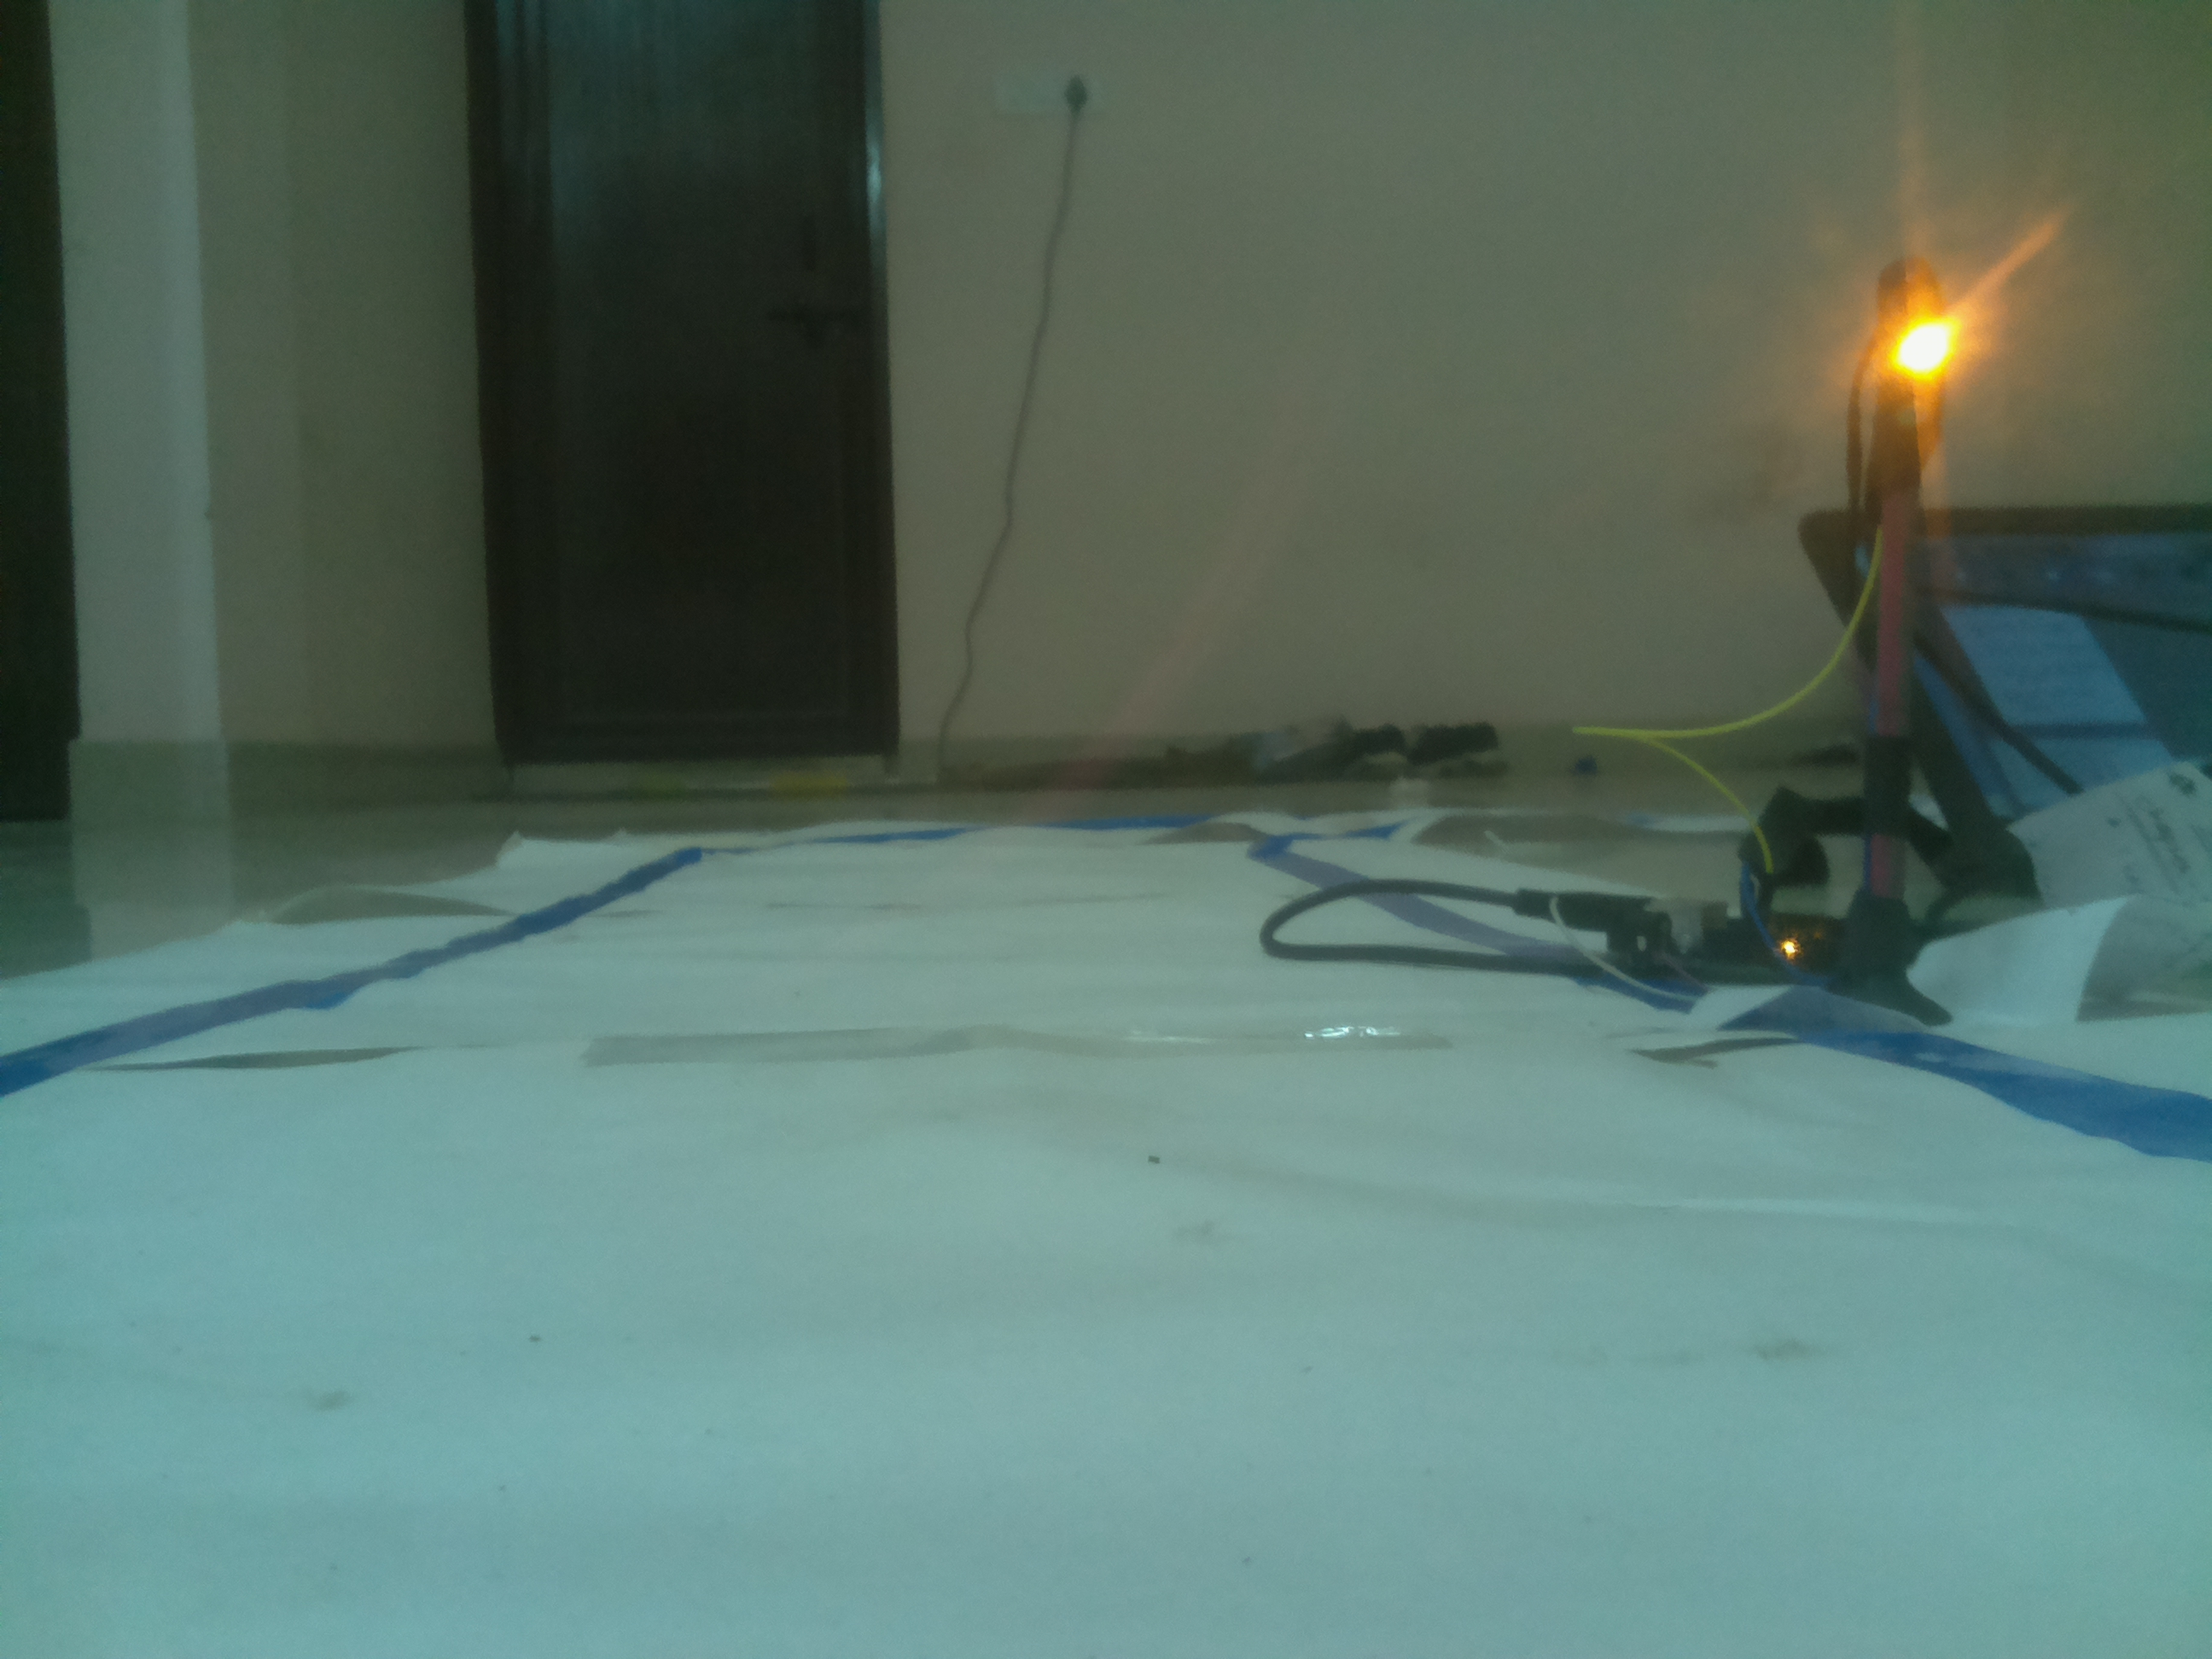yellow-light: (1846, 267, 2000, 495)
